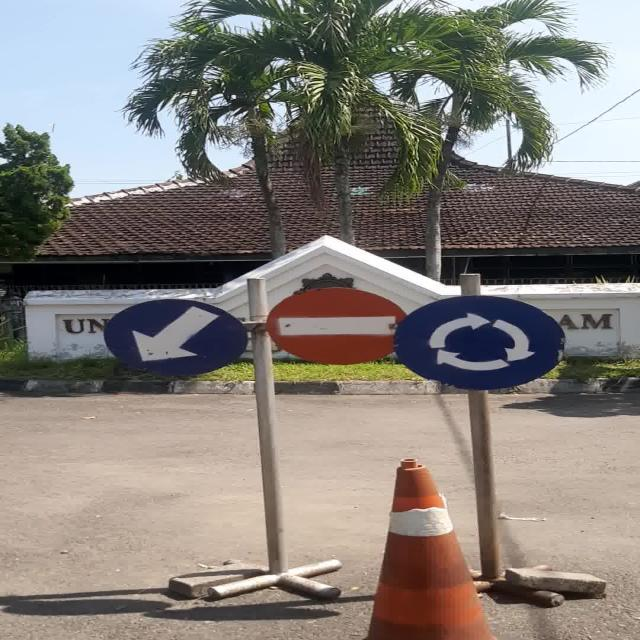Ikuti Bundaran: (392, 294, 566, 390)
Lajur Kiri: (102, 298, 248, 376)
